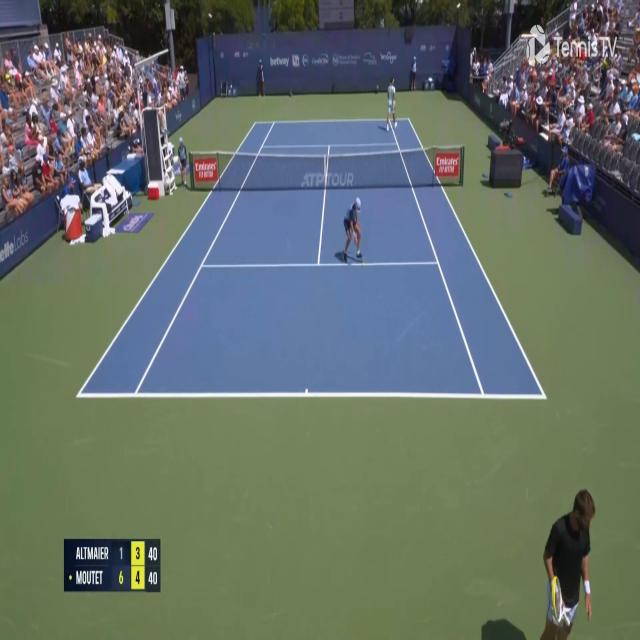tennis-player: (542, 480, 598, 640), (386, 76, 398, 131)
